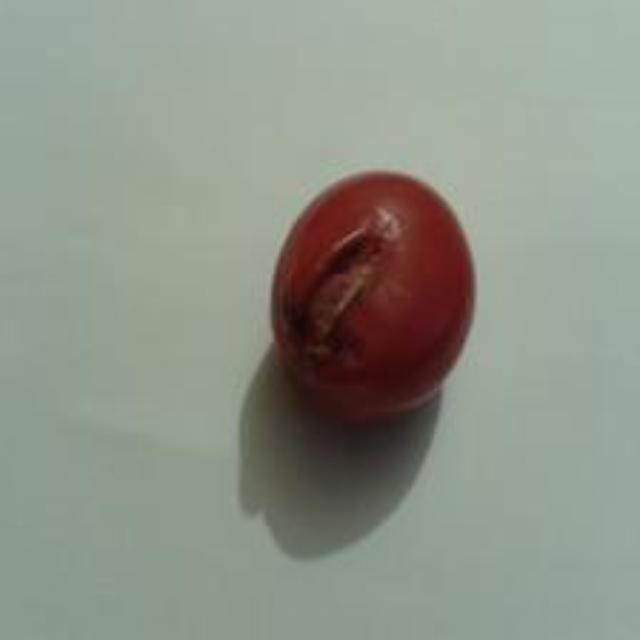defect: (270, 168, 479, 417)
